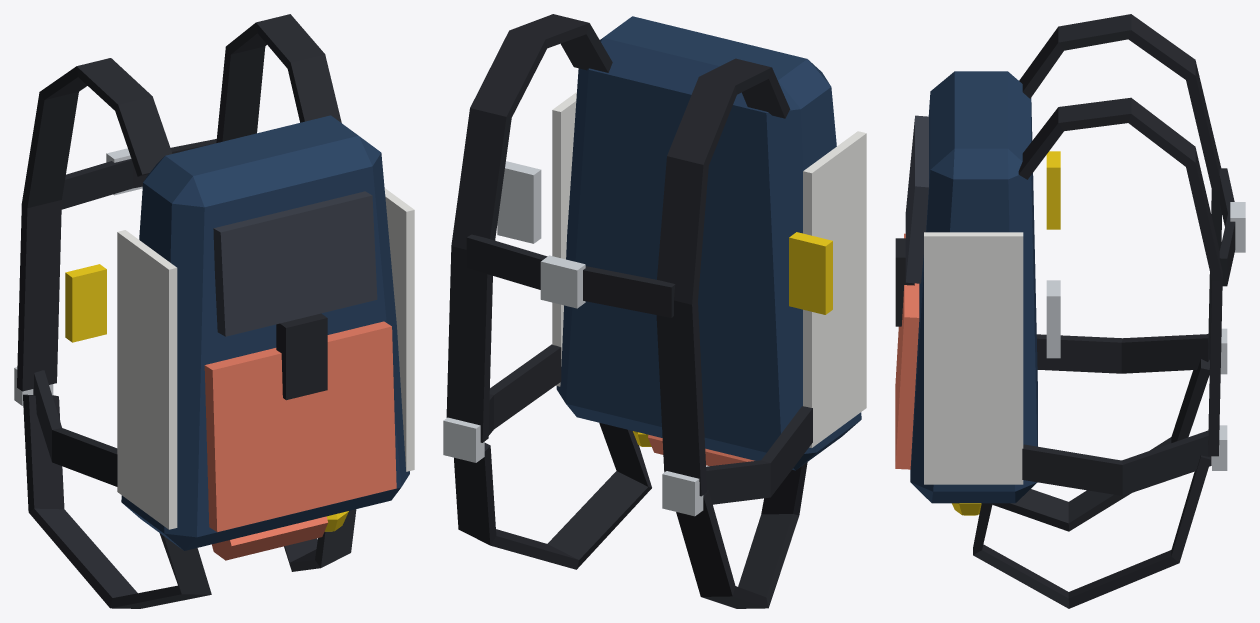
Rendered from parachute_pack.glb.
3 views of the same model, side by side, from view 1: azimuth 30°, elevation 25°; view 2: azimuth 150°, elevation 25°; view 3: azimuth 270°, elevation 25° (orthographic). The views are drawn at different scales.
Visible parts, largest first — view 1: Pack, Straps; view 2: Pack, Straps; view 3: Pack, Straps.
Part boxes in pixels (x1,y1,x2,y2): Pack: [65, 115, 414, 560]; Straps: [14, 14, 356, 608]; Pack: [497, 16, 866, 470]; Straps: [443, 14, 812, 608]; Pack: [895, 71, 1060, 515]; Straps: [973, 14, 1245, 608].
Bounding box in the file's own units: 0.45 × 0.729 × 0.4597.
